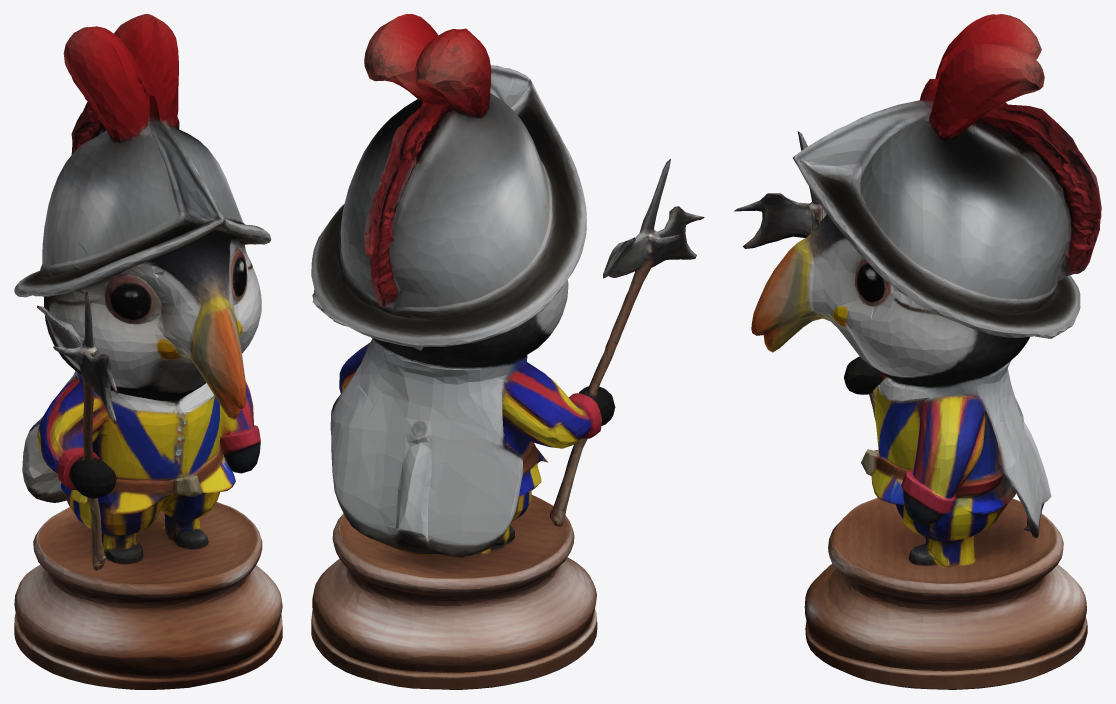
File: pawn-puffin.glb
3 renders of one model, left to right at view 1: azimuth 30°, elevation 25°; view 2: azimuth 150°, elevation 25°; view 3: azimuth 270°, elevation 25°, orthographic. The views are drawn at different scales.
Visible parts, largest first — view 1: world; view 2: world; view 3: world.
Boxes of the visible parts, box(x1,y1,x2,y2) form: world: box(14, 14, 282, 689); world: box(311, 14, 704, 689); world: box(734, 14, 1101, 689).
Bounding box in the file's own units: 0.479 × 0.9992 × 0.5525.
1 material, 1 textured.
